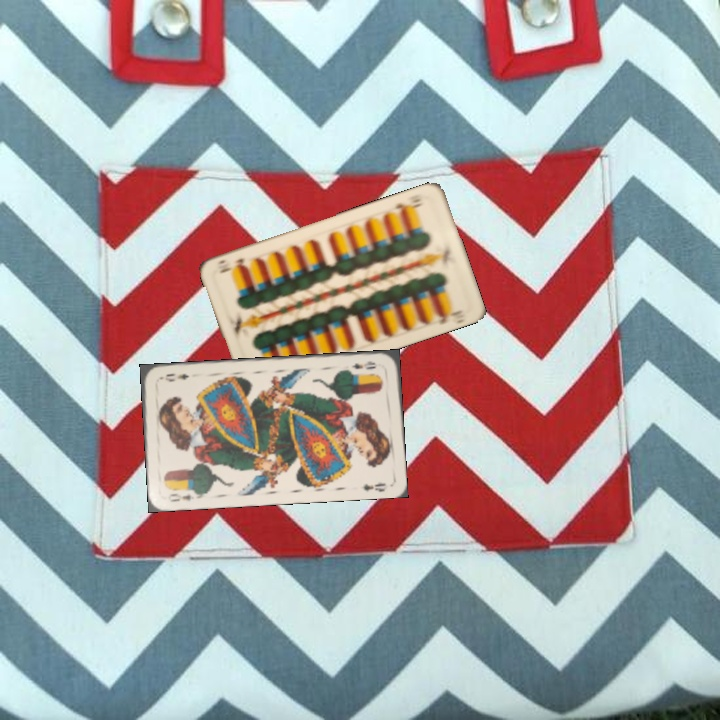E10: (391, 196, 425, 217)
EO: (164, 485, 203, 505), (347, 357, 378, 372)
